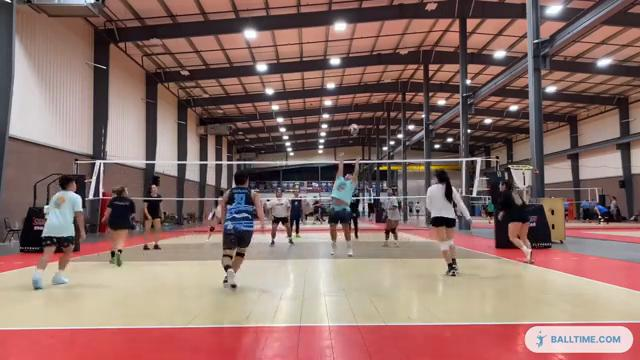Player: (32, 175, 85, 289), (220, 170, 263, 288), (426, 170, 470, 275), (498, 180, 532, 263), (103, 187, 135, 266), (268, 188, 293, 245), (143, 184, 163, 249), (383, 188, 400, 246), (289, 189, 304, 237), (207, 200, 221, 240), (350, 192, 359, 238)
Set: (322, 148, 361, 260)
ball: (348, 122, 357, 134)
